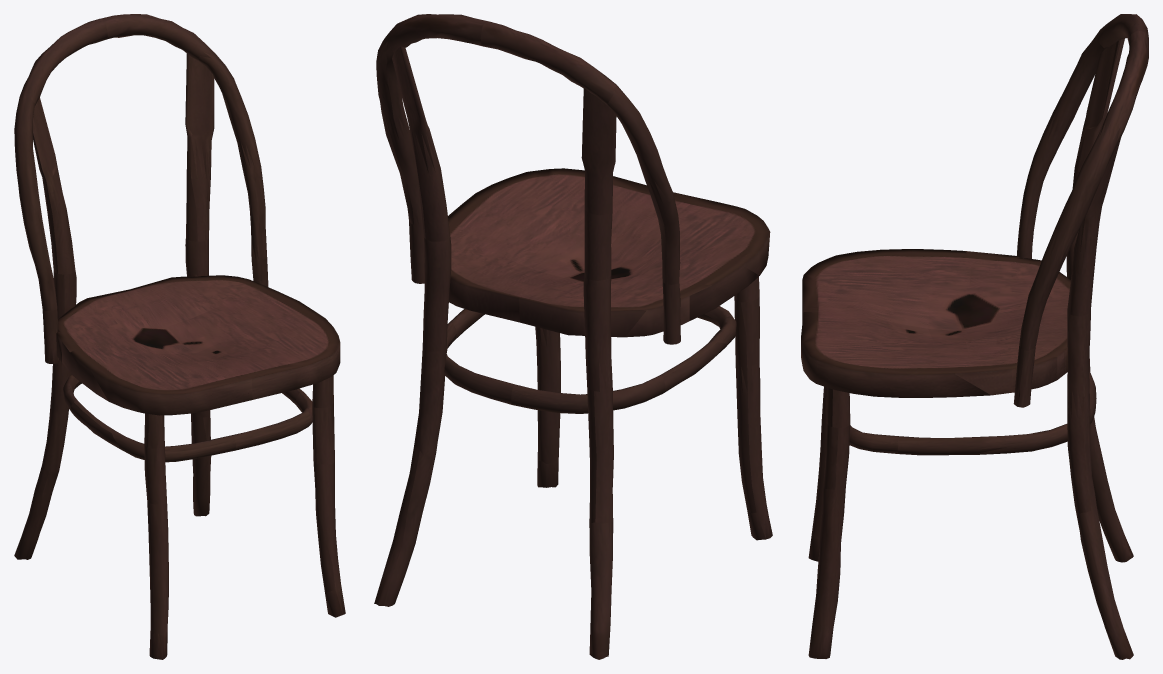
The model's file is Worlddd317d3e66.glb.
3 views of the same model, side by side, from view 1: azimuth 30°, elevation 25°; view 2: azimuth 150°, elevation 25°; view 3: azimuth 270°, elevation 25° (orthographic). The views are drawn at different scales.
Parts seen in each view (by area): view 1: mesh_node; view 2: mesh_node; view 3: mesh_node.
Part boxes in pixels (x1=…): mesh_node: x1=14, y1=14, x2=345, y2=659; mesh_node: x1=374, y1=14, x2=772, y2=659; mesh_node: x1=801, y1=14, x2=1148, y2=659.
Bounding box in the file's own units: 0.8682 × 1.8 × 0.9847.
Materials: 1 (1 with a texture image).
